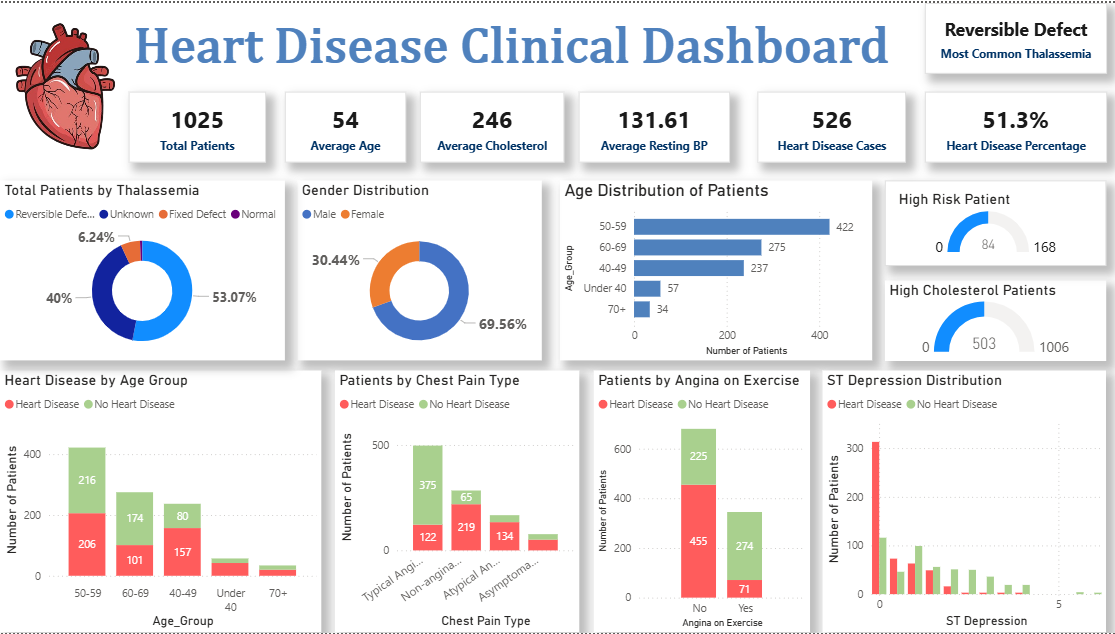

This screenshot's page, from the dashboard's own definition file:
{"tool":"powerbi","page":{"name":"Page 1","canvas":[1280,720],"ordinal":0},"visuals":[{"type":"card","fields":{"Values":["CountNonNull(heart.age)"]},"box":[146.7,101.5,156.5,80.7],"z":0},{"type":"card","fields":{"Values":["heart.HeartDiseasePercentage"]},"box":[1056.5,101.5,207.9,80.7],"z":1000},{"type":"card","fields":{"Values":["Avg(heart.age)"]},"box":[325.3,101.5,138.2,80.7],"z":2000},{"type":"card","fields":{"Values":["Avg(heart.chol)"]},"box":[479.4,101.5,165.1,80.7],"z":3000},{"type":"card","fields":{"Values":["Avg(heart.trestbps)"]},"box":[661.6,101.5,172.4,80.7],"z":4000},{"type":"clusteredBarChart","title":"Age Distribution of Patients","fields":{"Y":["CountNonNull(heart.age)"],"Category":["heart.Age_Group"]},"box":[639.5,203,357.1,205.4],"z":5000},{"type":"donutChart","title":"Gender Distribution","fields":{"Category":["heart.Sex_Label"],"Y":["CountNonNull(heart.Sex_Label)"]},"box":[339.9,203,278.8,205.4],"z":6000},{"type":"columnChart","title":"Heart Disease by Age Group","fields":{"Y":["CountNonNull(heart.age)"],"Series":["heart.Heart_Disease_Status"],"Category":["heart.Age_Group"]},"box":[0,420.7,366.8,299.6],"z":7000},{"type":"gauge","fields":{"Y":["heart.High_Cholesterol_Patients"]},"box":[1011.3,316.7,253.1,91.7],"z":8000},{"type":"gauge","title":"High Risk Patient","fields":{"Y":["heart.High Risk Patients"]},"box":[1011.3,203,253.1,97.8],"z":9000},{"type":"donutChart","title":"Total Patients by Thalassemia","fields":{"Category":["heart.Thalassemia_Status"],"Y":["heart.Total Patients"]},"box":[0,203,325.3,205.4],"z":10000},{"type":"columnChart","title":"Patients by Chest Pain Type","fields":{"Category":["heart.ChestPain_Type"],"Y":["CountNonNull(heart.cp)"],"Series":["heart.Heart_Disease_Status"]},"box":[382.7,420.7,278.8,299.6],"z":11000},{"type":"textbox","box":[146.7,12.2,889,79.5],"z":12000},{"type":"columnChart","title":"Patients by Angina on Exercise","fields":{"Category":["heart.Exang_Label"],"Series":["heart.Heart_Disease_Status"],"Y":["CountNonNull(heart.age)"]},"box":[678.7,420.7,247,299.6],"z":13000},{"type":"clusteredColumnChart","title":"ST Depression Distribution","fields":{"Category":["heart.oldpeak (bins)"],"Y":["CountNonNull(heart.age)"],"Series":["heart.Heart_Disease_Status"]},"box":[940.4,420.7,324.1,299.6],"z":14000},{"type":"card","fields":{"Values":["heart.Heart Disease Cases"]},"box":[865.8,101.5,170,80.7],"z":15000},{"type":"image","box":[0,0,146.7,203],"z":16000},{"type":"card","fields":{"Values":["heart.MostCommonThal"]},"box":[1056.5,0,207.9,80.7],"z":17000}]}

Visuals, with their boxes in screenshot pixels (x1, y1, x2, y2), scaled from the page's 1280x720 canvas onto the 1115x634 screenshot:
card - CountNonNull(heart.age): 128, 89, 264, 160
card - heart.HeartDiseasePercentage: 920, 89, 1101, 160
card - Avg(heart.age): 283, 89, 404, 160
card - Avg(heart.chol): 418, 89, 561, 160
card - Avg(heart.trestbps): 576, 89, 726, 160
"Age Distribution of Patients" clusteredBarChart: 557, 179, 868, 360
"Gender Distribution" donutChart: 296, 179, 539, 360
"Heart Disease by Age Group" columnChart: 0, 370, 320, 633
gauge - heart.High_Cholesterol_Patients: 881, 279, 1101, 360
"High Risk Patient" gauge: 881, 179, 1101, 265
"Total Patients by Thalassemia" donutChart: 0, 179, 283, 360
"Patients by Chest Pain Type" columnChart: 333, 370, 576, 633
textbox: 128, 11, 902, 81
"Patients by Angina on Exercise" columnChart: 591, 370, 806, 633
"ST Depression Distribution" clusteredColumnChart: 819, 370, 1101, 633
card - heart.Heart Disease Cases: 754, 89, 902, 160
image: 0, 0, 128, 179
card - heart.MostCommonThal: 920, 0, 1101, 71
